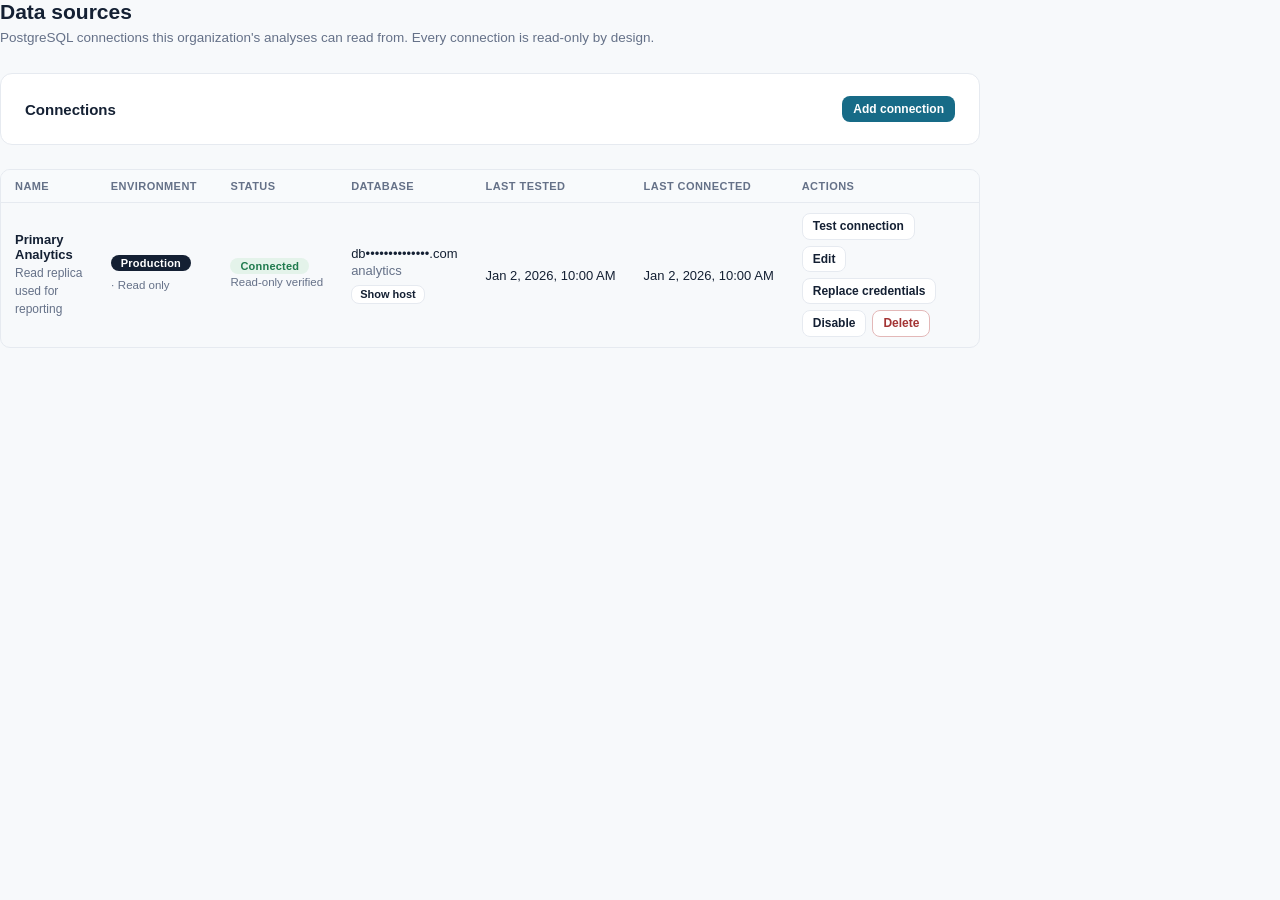
Scenario: DataSourcesSettings › never prefills or displays the password when editing, and offers replace-credentials separately
The width and height of the screenshot is (1280, 900).
Expected: the text "Primary Analytics" is shown, [15,232,83,262]
What coordinates should you click on to do the following:
click the button "Edit"
I would click on:
 (824, 259)
Its box is [802,246,846,272].
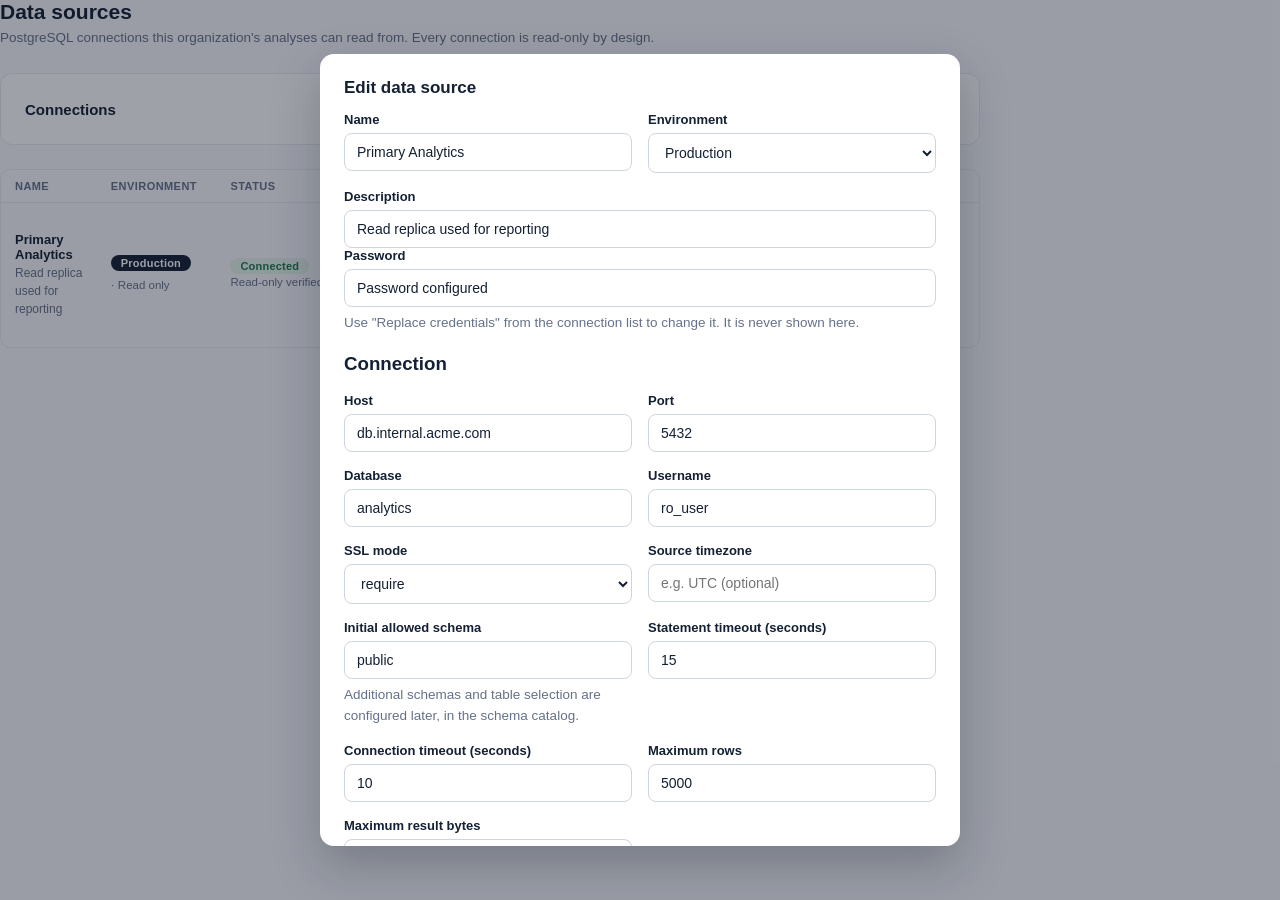
Expected: the field labelled "Password" holds "Password configured", [344,269,936,307]
Expected: the field labelled "Password" is disabled, [344,269,936,307]
